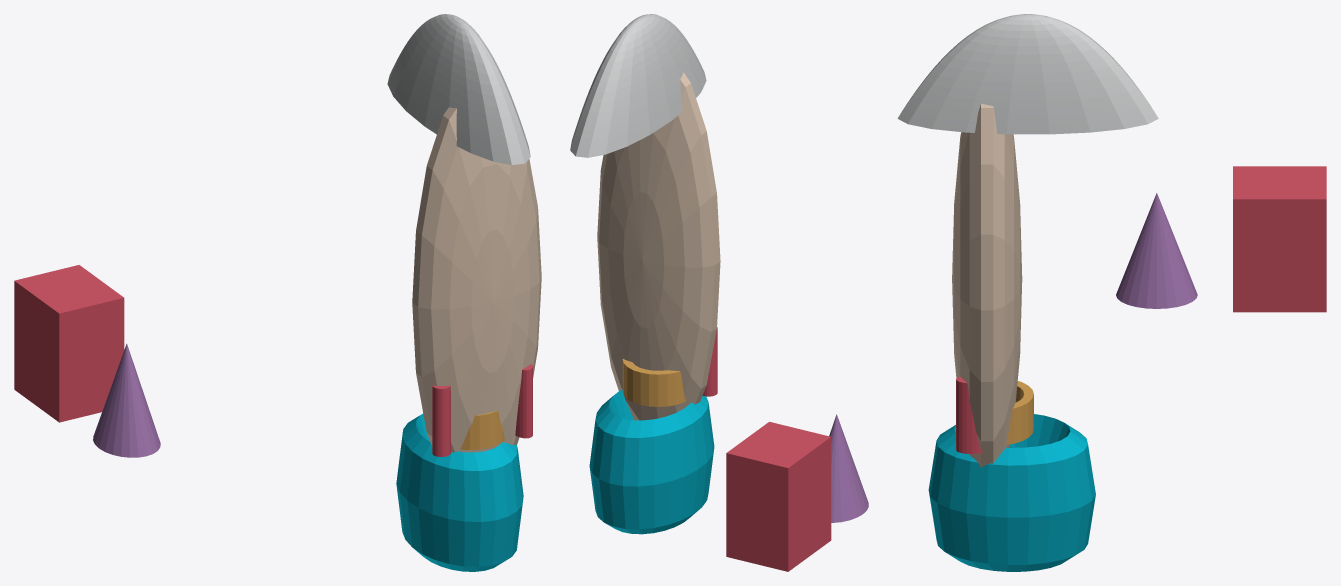
File: harryrocket.glb
The picture shows the model from 3 angles, left to right: view 1: azimuth 30°, elevation 25°; view 2: azimuth 150°, elevation 25°; view 3: azimuth 270°, elevation 25°; orthographic projection. The views are drawn at different scales.
Parts seen in each view (by area): view 1: Mesh_Mesh_head_geo.001_lambert2SG.001; view 2: Mesh_Mesh_head_geo.001_lambert2SG.001; view 3: Mesh_Mesh_head_geo.001_lambert2SG.001.
Boxes of the visible parts, bbox=[...] form: Mesh_Mesh_head_geo.001_lambert2SG.001: bbox=[14, 14, 541, 571]; Mesh_Mesh_head_geo.001_lambert2SG.001: bbox=[570, 14, 868, 571]; Mesh_Mesh_head_geo.001_lambert2SG.001: bbox=[897, 14, 1326, 571].
Size of the model in its own units: 111 by 154 by 110.
